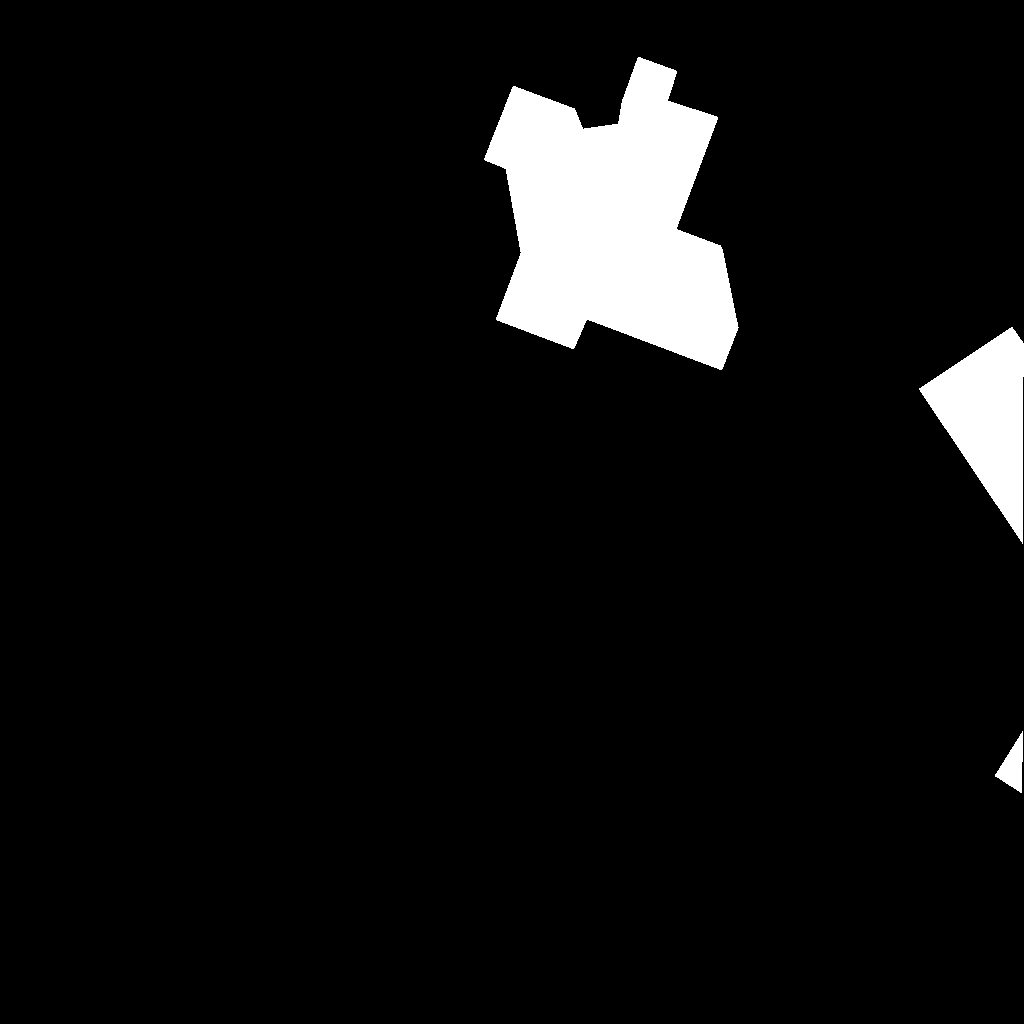building: (484, 57, 739, 371), (919, 327, 1024, 545), (995, 731, 1024, 794)
